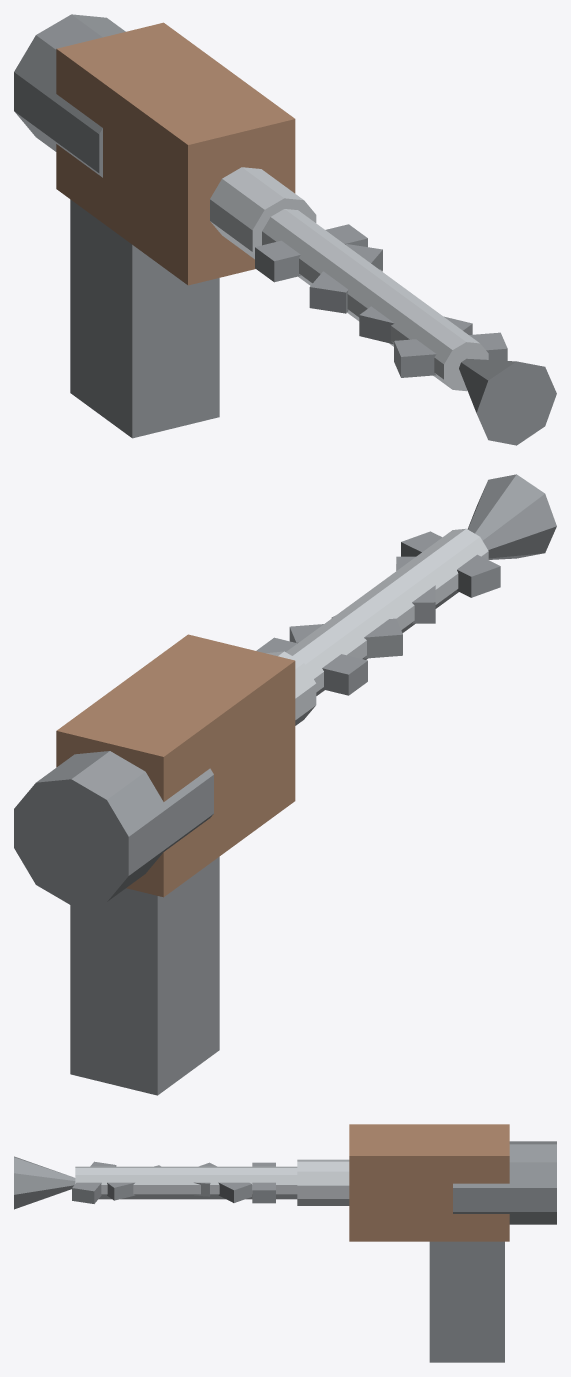
File: drill.glb
3 renders of one model, top to bottom at view 1: azimuth 30°, elevation 25°; view 2: azimuth 150°, elevation 25°; view 3: azimuth 270°, elevation 25°, orthographic. The views are drawn at different scales.
Visible parts, largest first — view 1: drill; view 2: drill; view 3: drill.
Part boxes in pixels (x1=…): drill: x1=14, y1=14, x2=556, y2=445; drill: x1=14, y1=474, x2=556, y2=1095; drill: x1=14, y1=1124, x2=556, y2=1362.
Size of the model in its own units: 0.1712 by 0.49 by 1.15.
